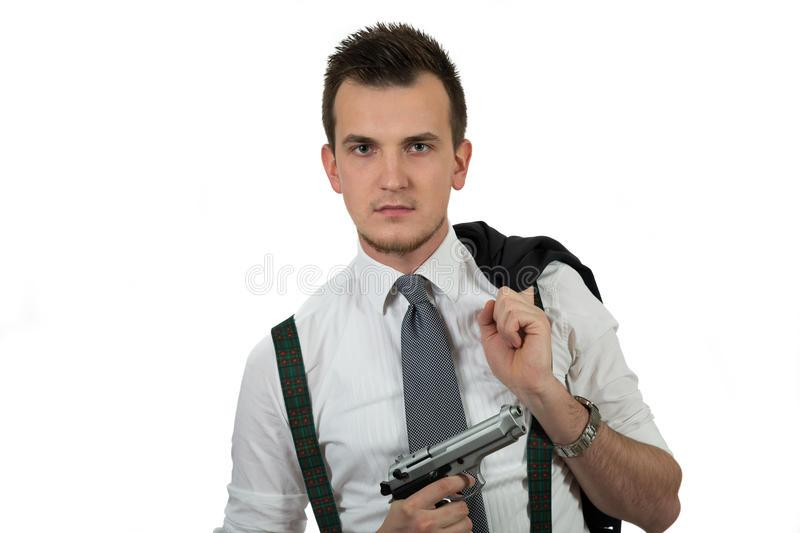criminal: (214, 18, 682, 533)
weapon: (376, 399, 531, 516)
